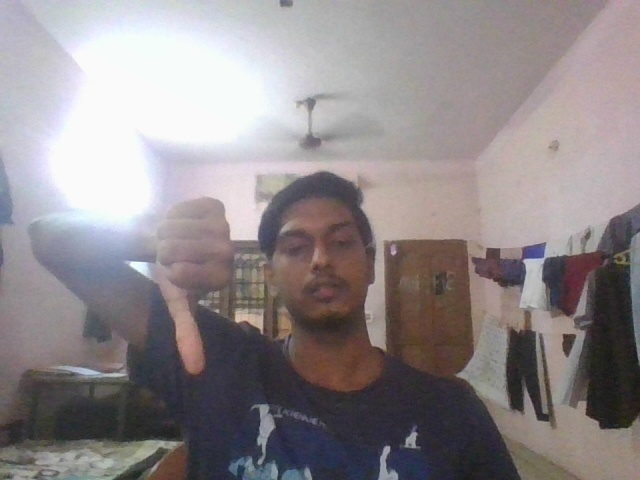thumbsdown: (148, 192, 240, 383)
